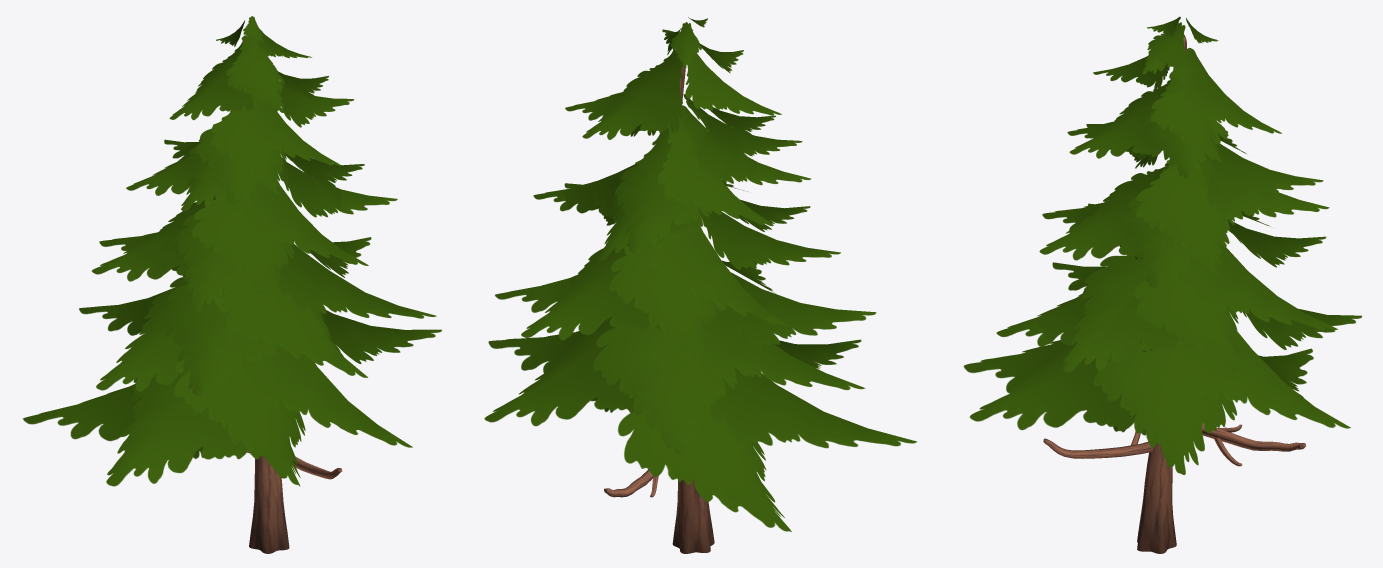
File: frost_pine_b.glb
3 views of the same model, side by side, from view 1: azimuth 30°, elevation 25°; view 2: azimuth 150°, elevation 25°; view 3: azimuth 270°, elevation 25° (orthographic). The views are drawn at different scales.
Parts seen in each view (by area): view 1: Pine_2; view 2: Pine_2; view 3: Pine_2.
Boxes of the visible parts, x1=… form: Pine_2: x1=23, y1=16, x2=441, y2=553; Pine_2: x1=484, y1=17, x2=916, y2=553; Pine_2: x1=963, y1=16, x2=1362, y2=553.
Size of the model in its own units: 5.73 by 7.38 by 5.22.
2 materials, 2 textured.
